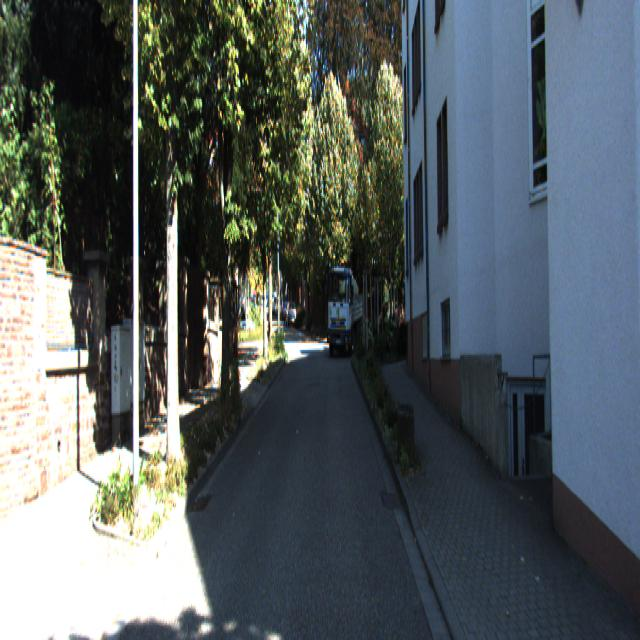Car: (326, 264, 363, 362), (286, 298, 297, 327)
